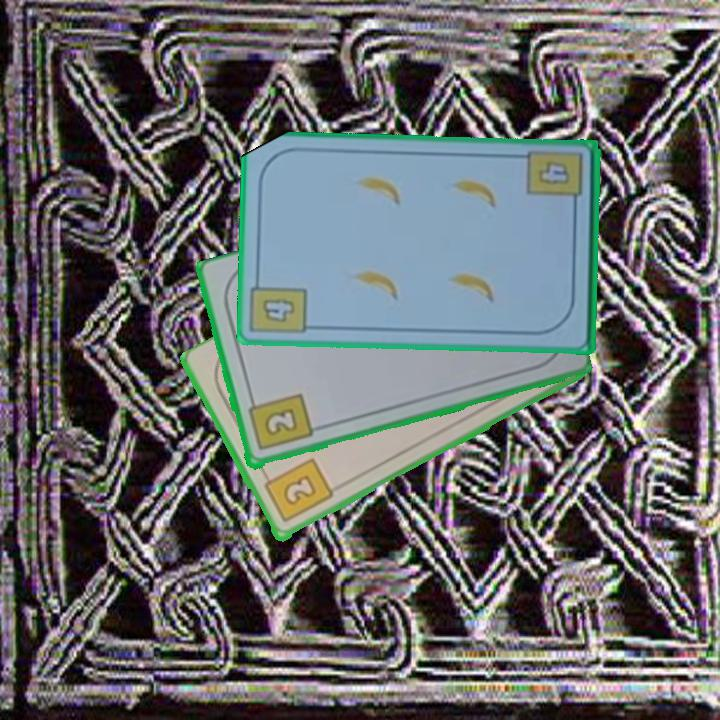2b: (259, 455, 336, 526), (244, 390, 315, 454)
4b: (249, 272, 310, 337), (534, 158, 572, 188)
